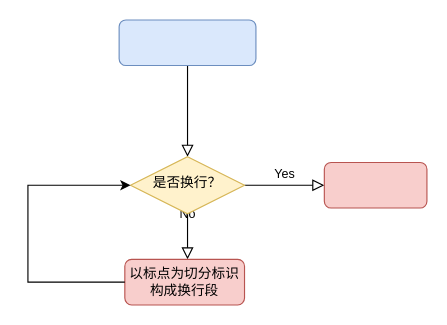
This 447x325 diagram has some shape labels left out. Each missing label, with the box of its shape:
以行为切分单位构成短句集合: (323, 161, 427, 208)
来了一段话: (118, 19, 256, 66)
